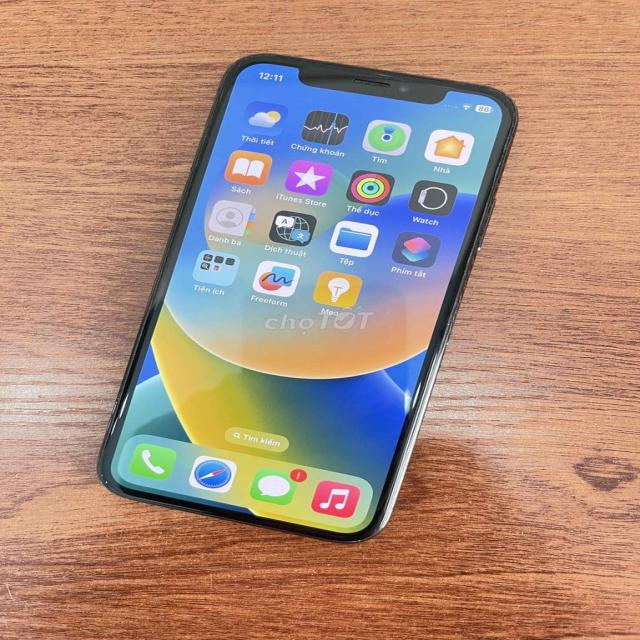scratch: (222, 50, 287, 70), (92, 468, 120, 494), (473, 244, 492, 261)
